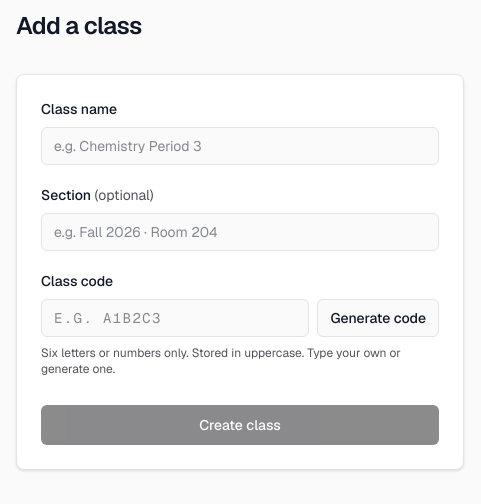
Test case: create class form › generates a code and replaces it on regenerate
What coordinates should you click on to do the following:
click the button "Generate code"
I would click on:
 (378, 318)
Its box is 317,299 -> 439,337.
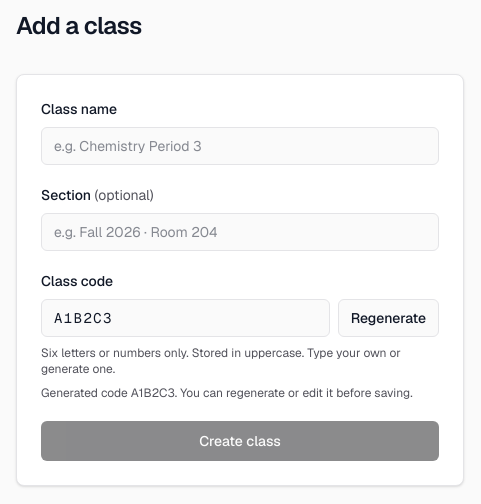
Result: the field labelled "Class code" holds "A1B2C3" at 41,299 -> 330,337
Result: the text "Generated code A1B2C3" is shown at 41,385 -> 413,401
What coordinates should you click on to do the following:
click the button "Regenerate"
I would click on:
 (388, 318)
Its box is 338,299 -> 439,337.
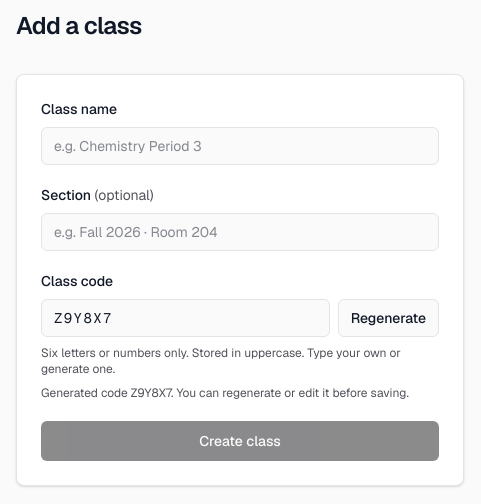
Result: the field labelled "Class code" holds "Z9Y8X7" at 41,299 -> 330,337
